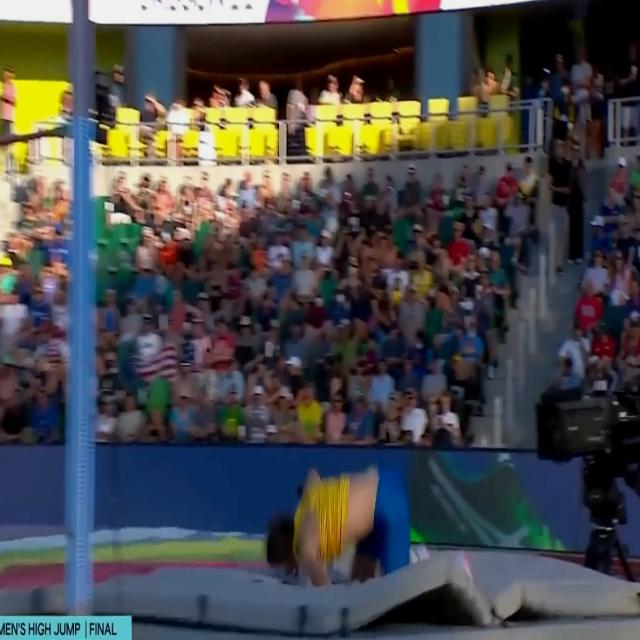land: (262, 457, 475, 602)
